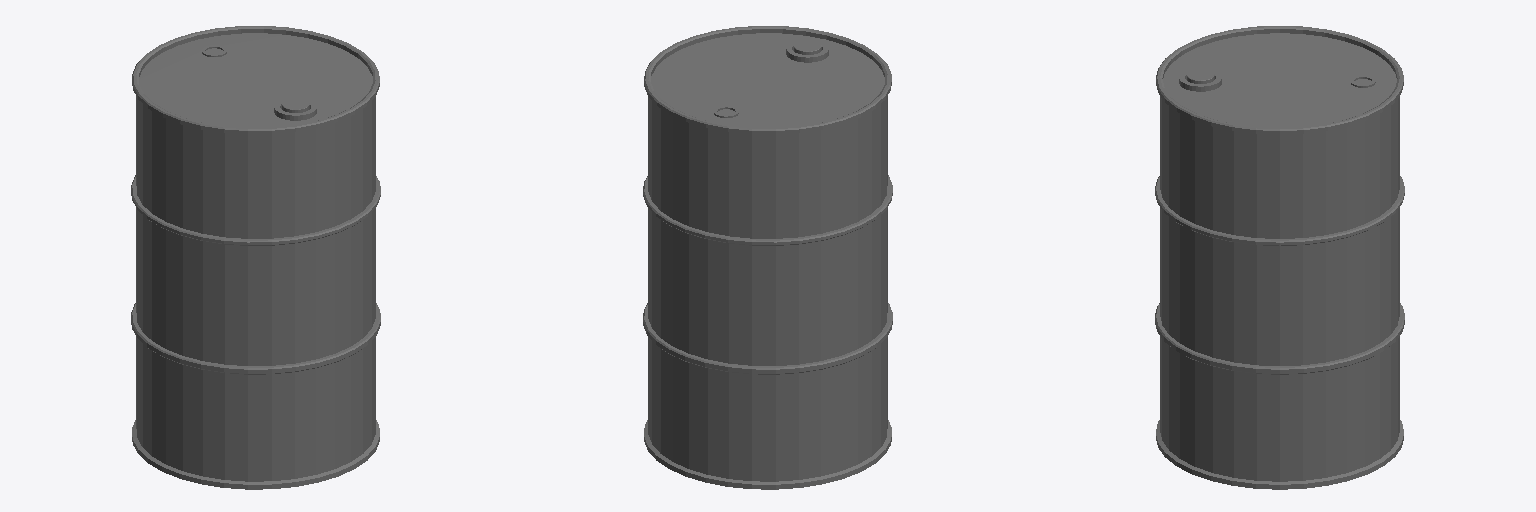
File: barrel.obj
3 renders of one model, left to right at view 1: azimuth 30°, elevation 25°; view 2: azimuth 150°, elevation 25°; view 3: azimuth 270°, elevation 25°, orthographic.
Parts seen in each view (by area): view 1: barrel_g_Barrel:Cylinder_Cylinder_None_meshId0_name; view 2: barrel_g_Barrel:Cylinder_Cylinder_None_meshId0_name; view 3: barrel_g_Barrel:Cylinder_Cylinder_None_meshId0_name.
Part boxes in pixels (x1,y1,x2,y2): barrel_g_Barrel:Cylinder_Cylinder_None_meshId0_name: (131,26,380,489); barrel_g_Barrel:Cylinder_Cylinder_None_meshId0_name: (643,26,892,489); barrel_g_Barrel:Cylinder_Cylinder_None_meshId0_name: (1155,26,1404,489).
Bounding box in the file's own units: 0.6282 × 1 × 0.6282.